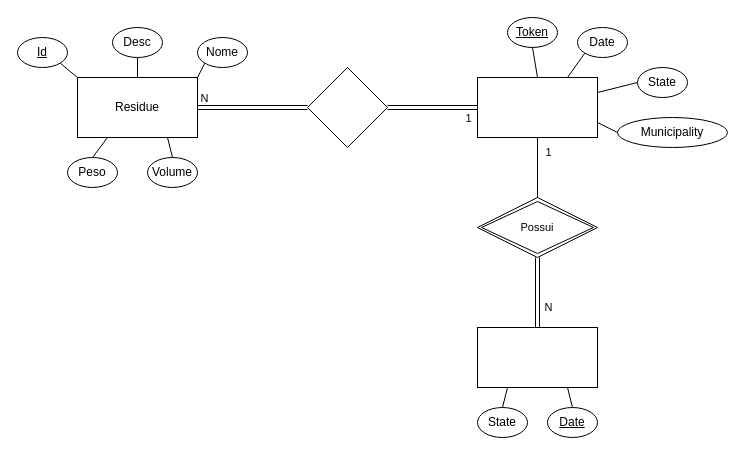
Image size: 745x455. Some labels were removed from this diagram. Each missing label, with the centre of its shape:
"Para" goes at (x=347, y=107).
"Request" goes at (x=537, y=107).
"StateChange" goes at (x=537, y=357).
